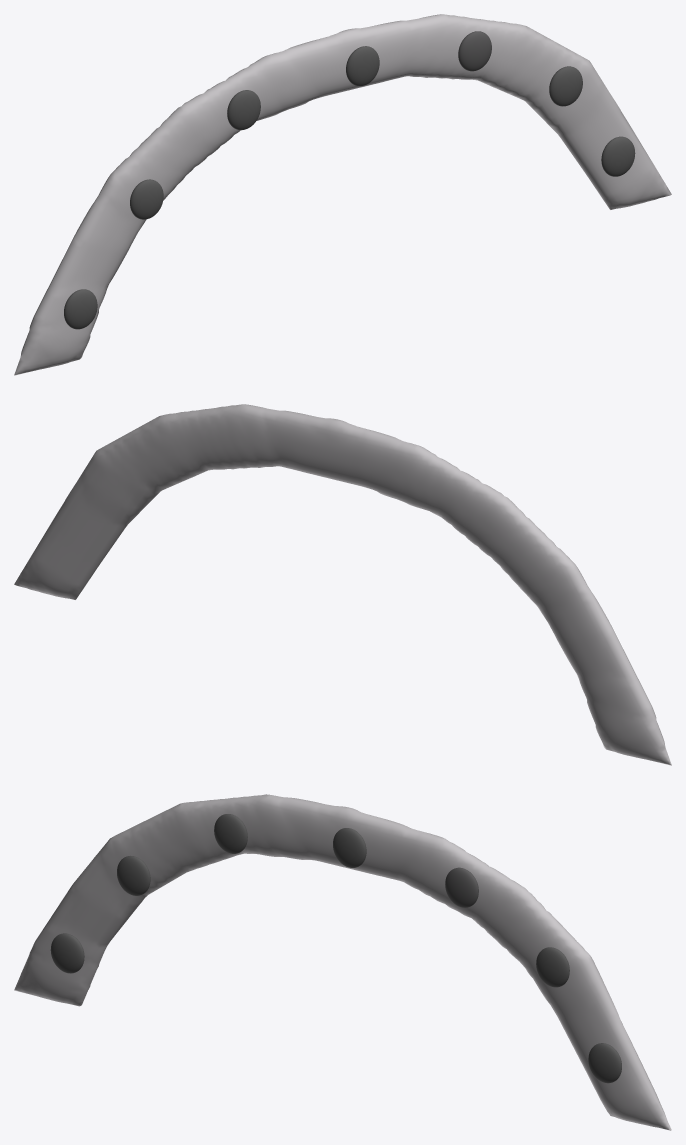
Rendered from ustnokta.fbx.
The picture shows the model from 3 angles, top to bottom: view 1: azimuth 30°, elevation 25°; view 2: azimuth 150°, elevation 25°; view 3: azimuth 330°, elevation 25°; orthographic projection.
Visible parts, largest first — view 1: root (×8); view 2: root; view 3: root (×8).
Boxes of the visible parts, <box> form: root (×8): <box>14,14,671,375</box>; root: <box>14,404,671,765</box>; root (×8): <box>14,794,671,1130</box>.
Bounding box in the file's own units: 0.7454 × 0.2856 × 0.0313.
Materials: 3 (2 with a texture image).
